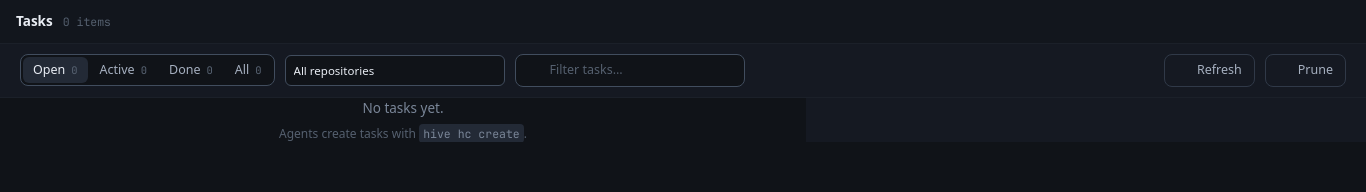
Test: TasksView › surfaces a dry-run failure in a banner, since it never opens the confirm dialog
The image size is (1366, 192).
Step 1. Click the button with test id "tasks-prune" → (1305, 70), box [1265,54,1346,87]
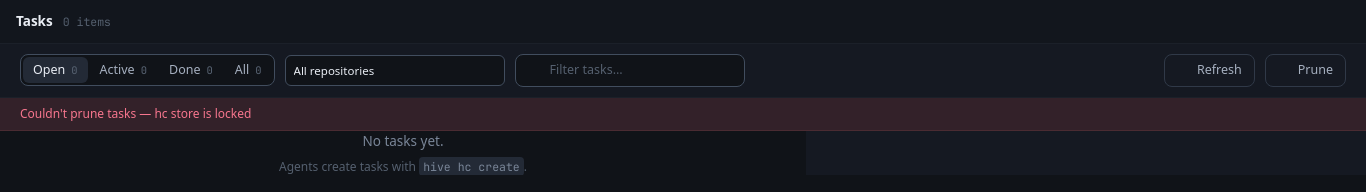
Expected: the message with test id "tasks-prune-error" shows "hc store is locked", [20,105,251,122]
